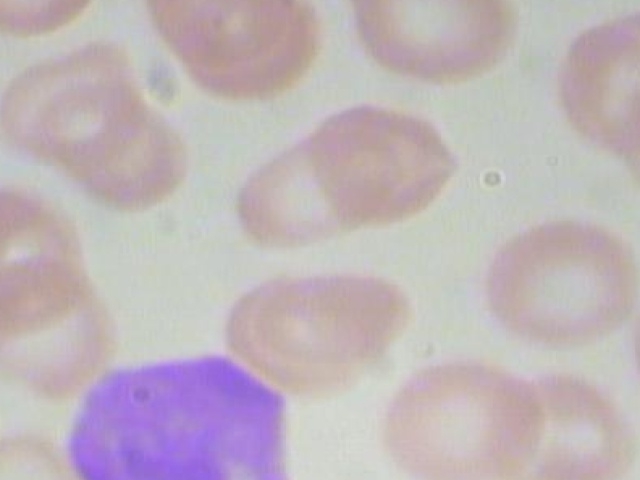RBC: (464, 214, 640, 352), (228, 122, 408, 254), (299, 95, 461, 230), (380, 351, 545, 480), (0, 33, 149, 168), (340, 0, 527, 95), (0, 254, 120, 395), (491, 369, 640, 480), (252, 265, 417, 365), (0, 182, 93, 337), (136, 0, 301, 73), (551, 7, 640, 142), (0, 425, 101, 480), (0, 0, 102, 42), (627, 281, 640, 435)
WBC: (58, 352, 314, 480)
